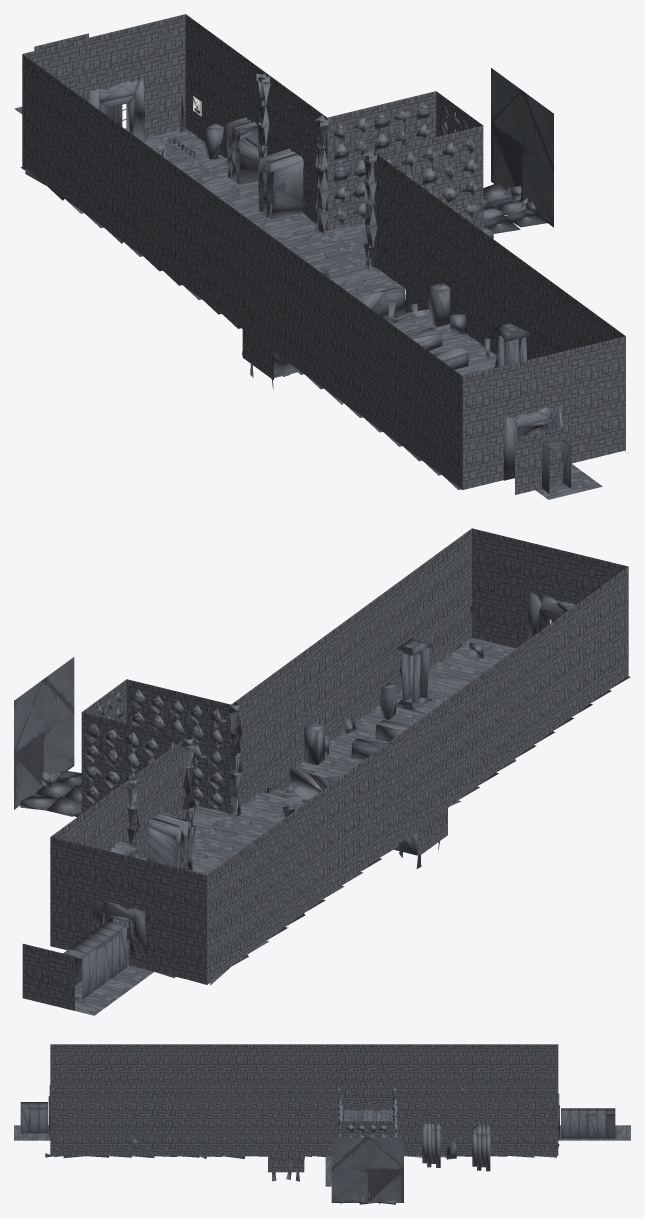
Rendered from SmartStage2.fbx.
The picture shows the model from 3 angles, top to bottom: view 1: azimuth 30°, elevation 25°; view 2: azimuth 150°, elevation 25°; view 3: azimuth 270°, elevation 25°; orthographic projection. The views are drawn at different scales.
Parts seen in each view (by area): view 1: Castle_Deco_Pilar_2; view 2: Castle_Deco_Pilar_2; view 3: Castle_Deco_Pilar_2.
Boxes of the visible parts, box(x1,y1,x2,y2) form: Castle_Deco_Pilar_2: box(14, 14, 626, 499); Castle_Deco_Pilar_2: box(14, 528, 630, 1015); Castle_Deco_Pilar_2: box(14, 1044, 630, 1204).
Size of the model in its own units: 3795 by 1708 by 10200.
